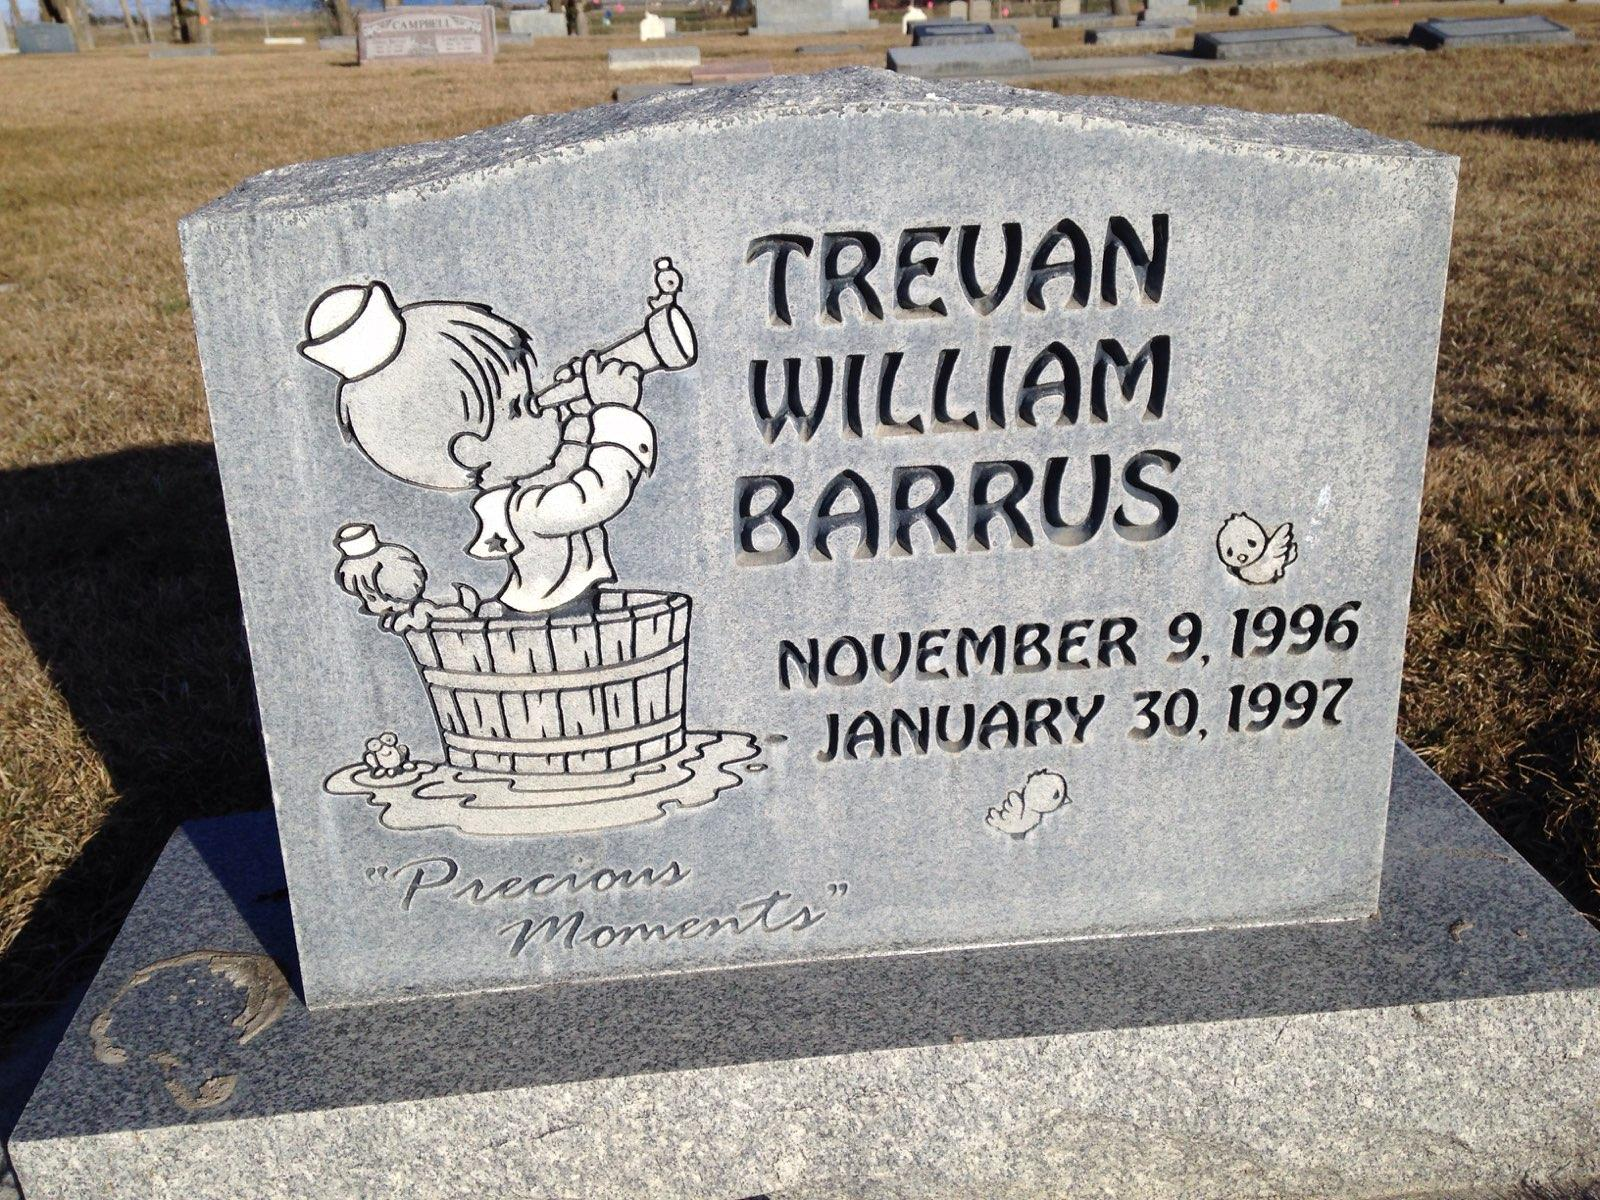upright: (0, 57, 1592, 1196)
